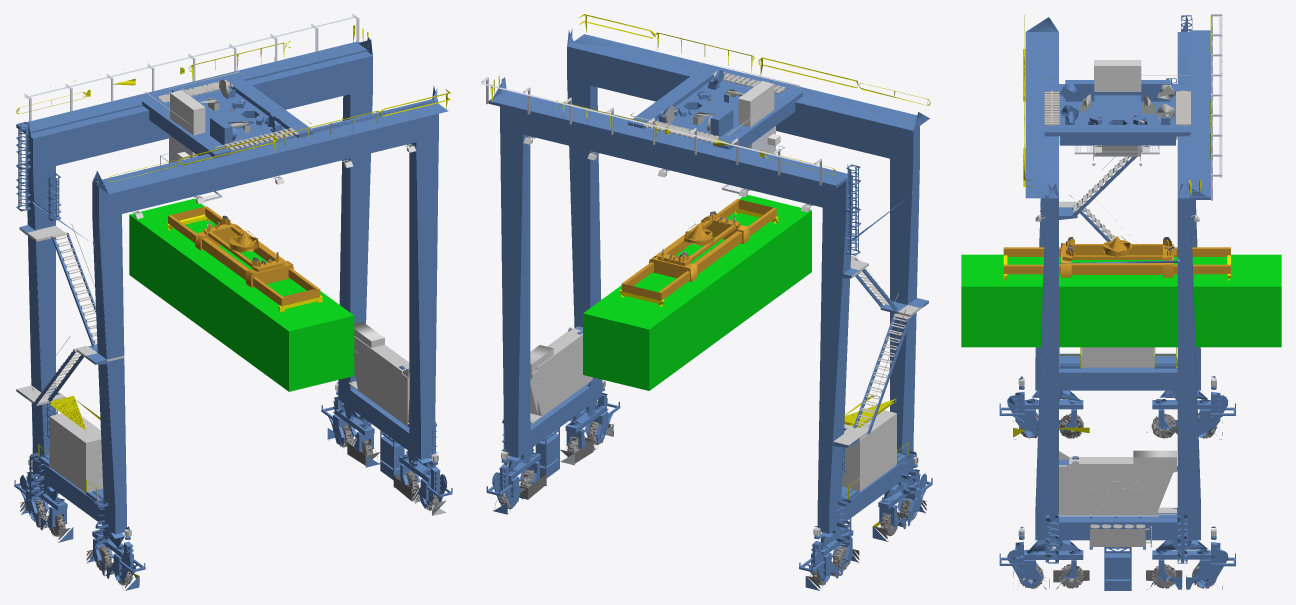
The model's file is gantry_crane_a.glb.
The picture shows the model from 3 angles, left to right: view 1: azimuth 30°, elevation 25°; view 2: azimuth 150°, elevation 25°; view 3: azimuth 270°, elevation 25°; orthographic projection.
Parts seen in each view (by area): view 1: Assembly~212, Assembly~1326, Assembly~219, Assembly~1305, Body_439, Assembly~210, Body_444, Assembly~217, Assembly~1301, Assembly~145, Assembly~173, Assembly~160 (+6 smaller); view 2: Assembly~219, Assembly~1326, Assembly~212, Assembly~1305, Body_439, Assembly~210, Body_444, Assembly~217, Assembly~1301, Assembly~173, Assembly~132, Assembly~145 (+5 smaller); view 3: Assembly~1326, Assembly~212, Assembly~219, Assembly~1305, Assembly~210, Body_439, Assembly~217, Body_444, Assembly~1301, Assembly~173, Assembly~145, Assembly~160 (+9 smaller).
Boxes of the visible parts, left/top/right/bottom form: Assembly~212: left=27, top=37, right=448, bottom=550; Assembly~1326: left=129, top=198, right=354, bottom=391; Assembly~219: left=27, top=39, right=438, bottom=537; Assembly~1305: left=142, top=77, right=313, bottom=158; Body_439: left=16, top=41, right=367, bottom=134; Assembly~210: left=354, top=322, right=409, bottom=426; Body_444: left=49, top=413, right=103, bottom=492; Assembly~217: left=348, top=336, right=409, bottom=424; Assembly~1301: left=170, top=90, right=243, bottom=135; Assembly~145: left=399, top=456, right=452, bottom=508; Assembly~173: left=321, top=396, right=380, bottom=467; Assembly~160: left=14, top=471, right=73, bottom=542; Assembly~219: left=493, top=30, right=919, bottom=538; Assembly~1326: left=583, top=195, right=811, bottom=390; Assembly~212: left=500, top=28, right=929, bottom=549; Assembly~1305: left=628, top=67, right=802, bottom=149; Body_439: left=488, top=93, right=846, bottom=188; Assembly~210: left=530, top=326, right=592, bottom=416; Body_444: left=842, top=410, right=896, bottom=491; Assembly~217: left=530, top=328, right=582, bottom=423; Assembly~1301: left=674, top=81, right=774, bottom=127; Assembly~173: left=486, top=452, right=546, bottom=508; Assembly~132: left=872, top=469, right=932, bottom=541; Assembly~145: left=565, top=393, right=620, bottom=450; Assembly~1326: left=961, top=235, right=1281, bottom=347; Assembly~212: left=1025, top=17, right=1200, bottom=563; Assembly~219: left=1036, top=17, right=1206, bottom=563; Assembly~1305: left=1044, top=80, right=1190, bottom=145; Assembly~210: left=1058, top=450, right=1176, bottom=515; Body_439: left=1189, top=30, right=1210, bottom=199; Assembly~217: left=1059, top=451, right=1176, bottom=515; Body_444: left=1081, top=347, right=1154, bottom=367; Assembly~1301: left=1094, top=60, right=1145, bottom=123; Assembly~173: left=1146, top=542, right=1235, bottom=589; Assembly~145: left=999, top=541, right=1083, bottom=587; Assembly~160: left=1146, top=391, right=1235, bottom=437.
Size of what is drawn, in the model's own units: 28.07 by 32.42 by 22.03.
